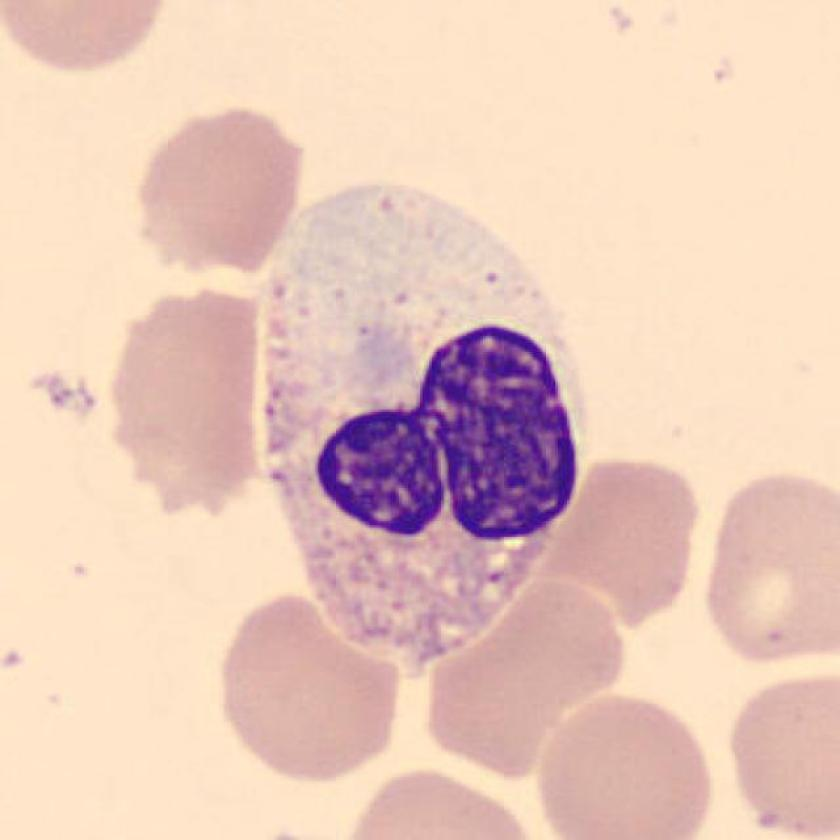neutrophil: (259, 185, 579, 670)
